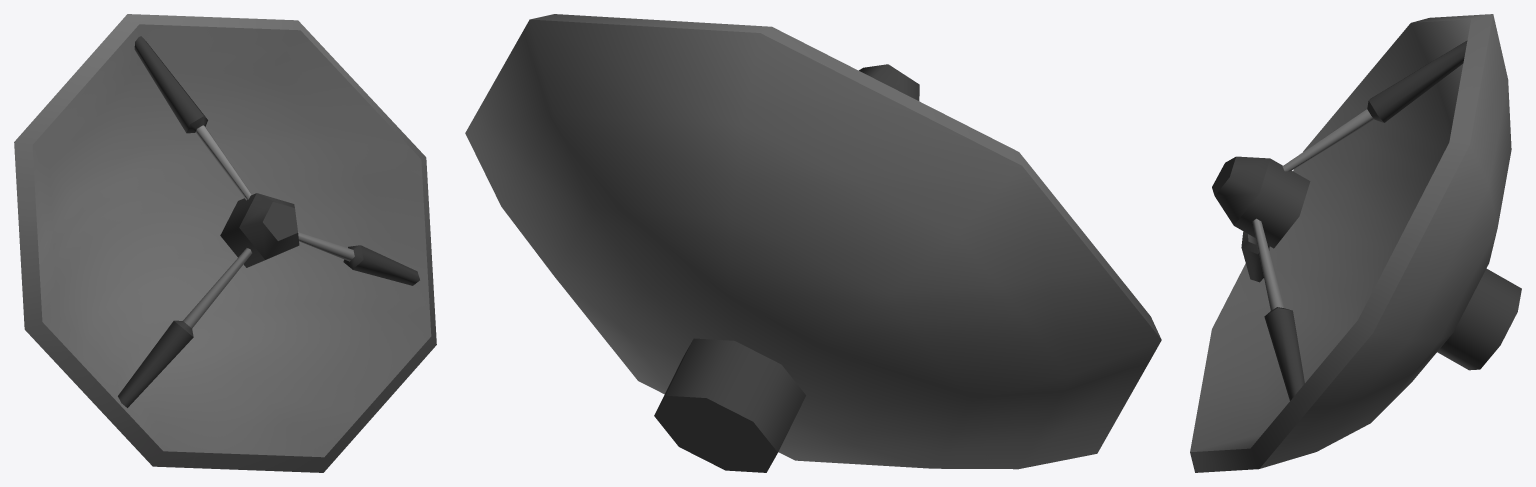
File: Antene_2_A_1.fbx
3 views of the same model, side by side, from view 1: azimuth 30°, elevation 25°; view 2: azimuth 150°, elevation 25°; view 3: azimuth 270°, elevation 25° (orthographic). The views are drawn at different scales.
Parts seen in each view (by area): view 1: Antene_2_A_1; view 2: Antene_2_A_1; view 3: Antene_2_A_1.
Boxes of the visible parts, <box> form: Antene_2_A_1: <box>14,14,436,472</box>; Antene_2_A_1: <box>465,14,1161,472</box>; Antene_2_A_1: <box>1190,14,1521,472</box>.
Size of the model in its own units: 142 by 120 by 84.78.
